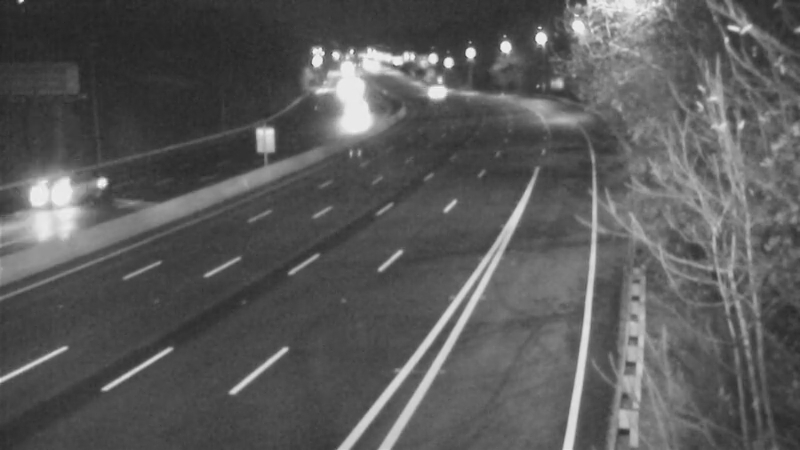vehicle: (24, 152, 104, 232), (401, 65, 451, 115), (327, 96, 377, 146)
